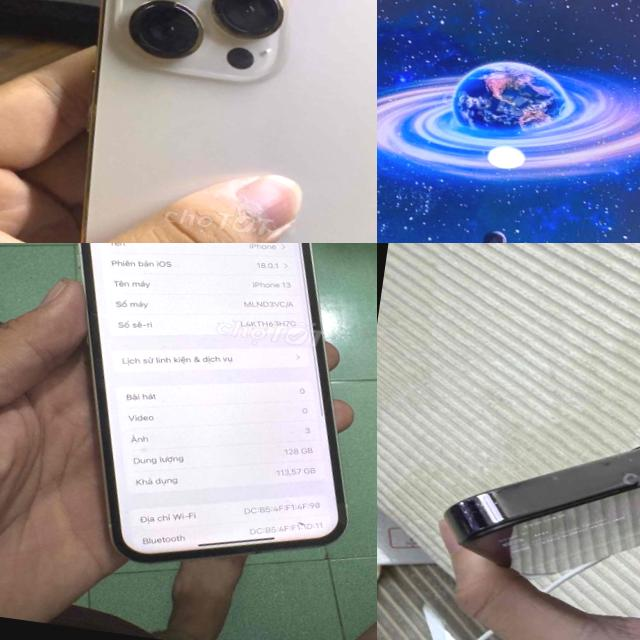gen_12_13: (16, 243, 377, 593), (28, 0, 377, 243)
gen_14: (445, 445, 640, 576)
gen_7_8: (377, 0, 640, 243)
scratch: (450, 486, 531, 538), (604, 423, 640, 472), (546, 471, 573, 488)
